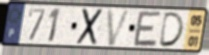1: (45, 7, 62, 44)
7: (26, 7, 47, 43)
D: (157, 11, 186, 48)
E: (132, 10, 163, 48)
V: (105, 9, 133, 48)
X: (75, 7, 104, 46)
